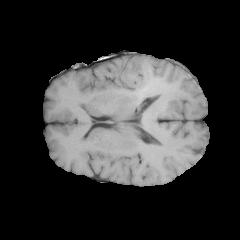glioma: (77, 56, 177, 118)
